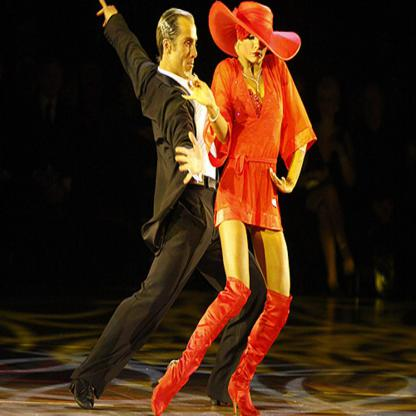face: (172, 13, 201, 81), (241, 10, 270, 64)
